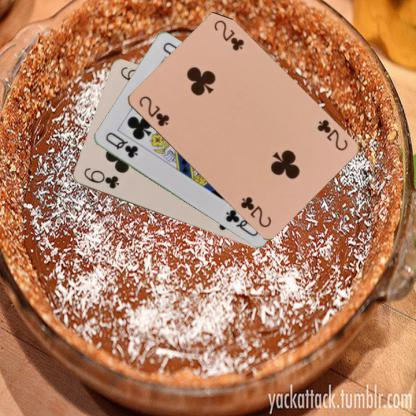2c: (136, 93, 170, 128), (314, 117, 348, 152)
6c: (80, 165, 120, 190)
Qc: (102, 130, 140, 160)
